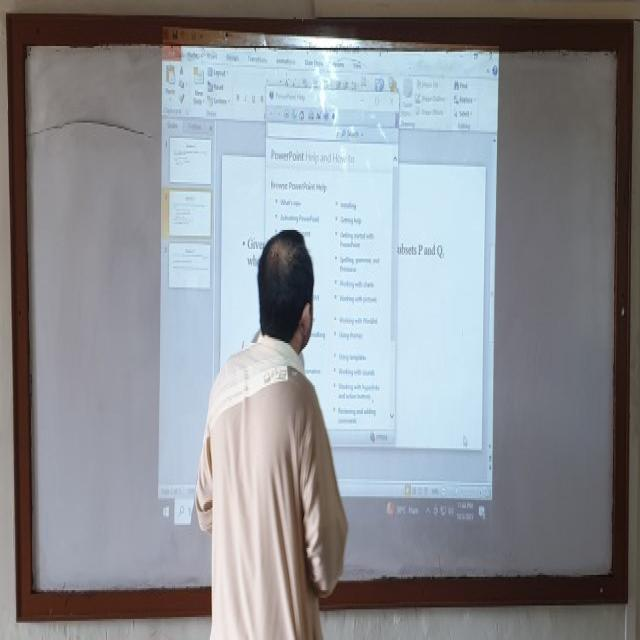Instructor: (225, 226, 342, 640)
Slide: (155, 25, 499, 536)
White-board: (16, 26, 625, 596)
